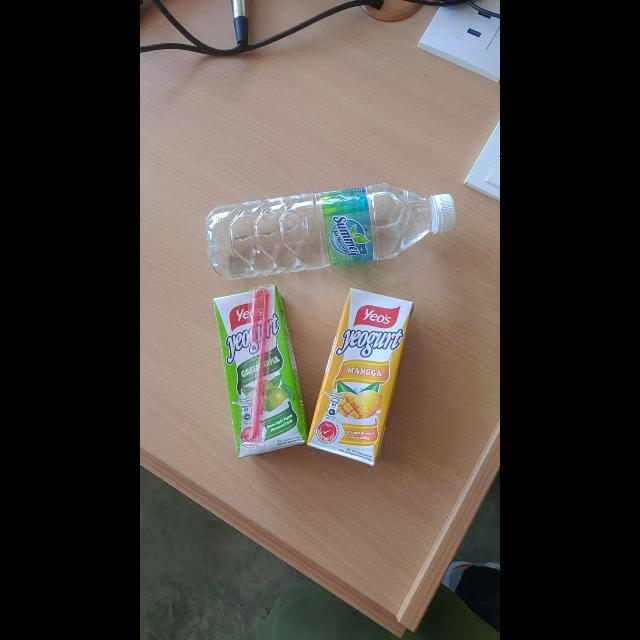garrafa plástica: (205, 182, 432, 280)
tampa plástica: (430, 192, 460, 232)
